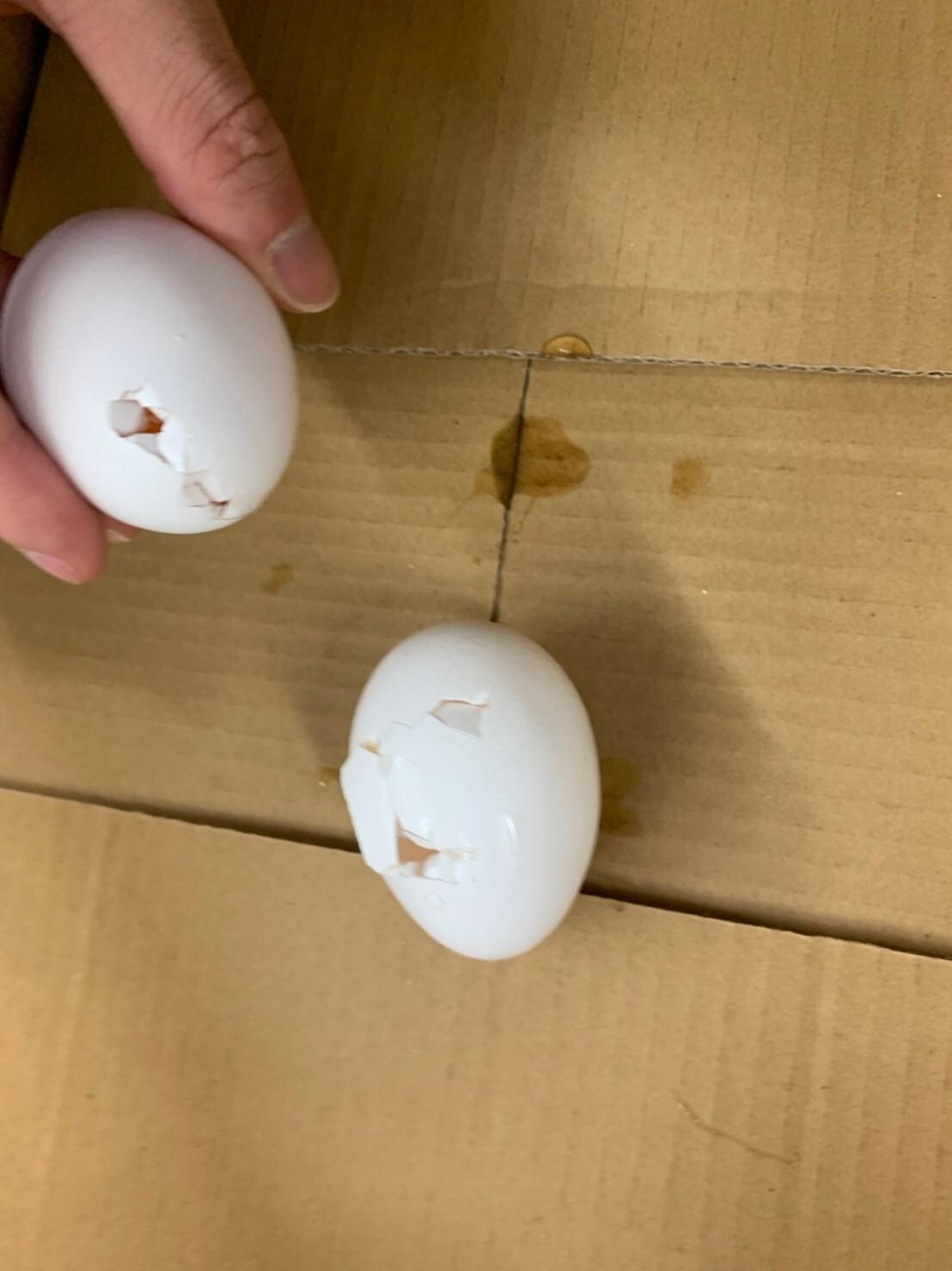egg: (0, 209, 308, 543), (337, 629, 601, 963)
